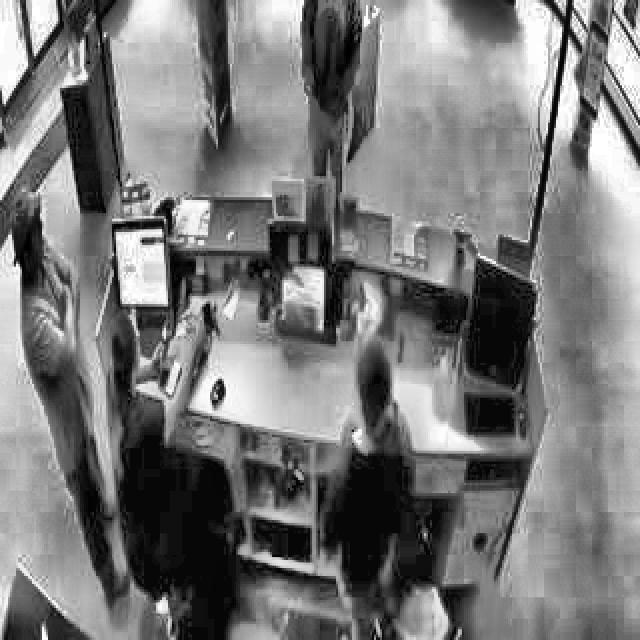robbery: (296, 2, 367, 198)
